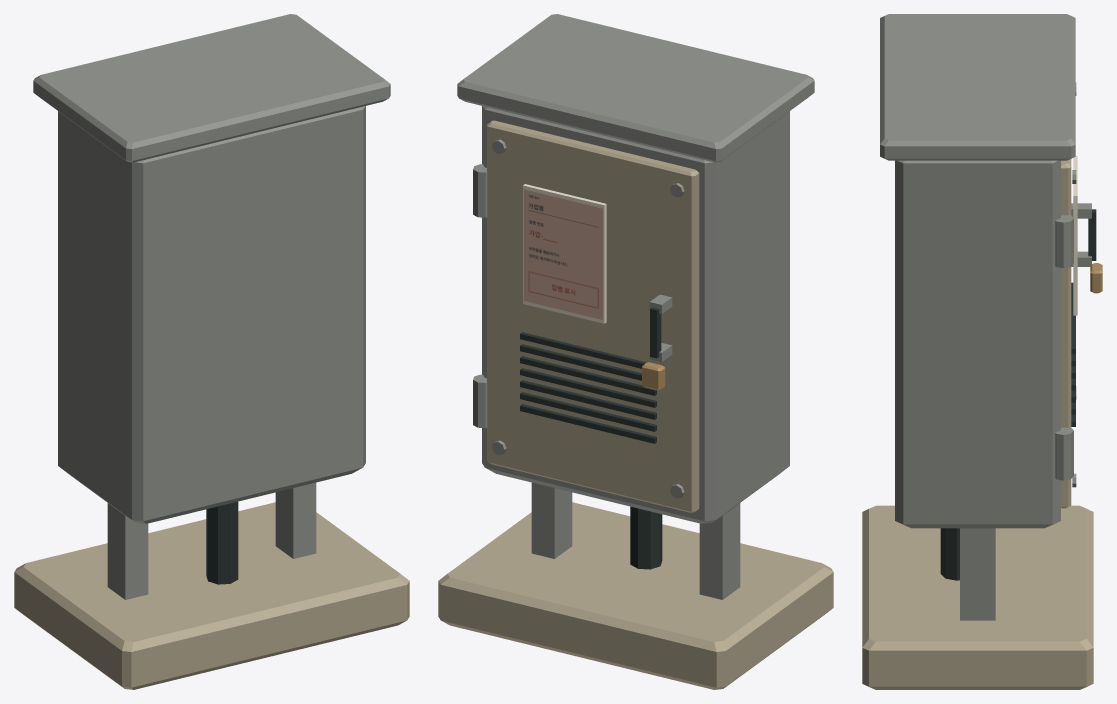
The model's file is D08_Seized_Electrical_Cabinet.fbx.
3 views of the same model, side by side, from view 1: azimuth 30°, elevation 25°; view 2: azimuth 150°, elevation 25°; view 3: azimuth 270°, elevation 25° (orthographic).
Parts seen in each view (by area): view 1: Cabinet, Conduit; view 2: Cabinet, Door, Front_Seizure_Sticker, Conduit, Lock; view 3: Cabinet, Door, Lock, Conduit, Front_Seizure_Sticker.
Part boxes in pixels (left/top/right/bottom): Cabinet: left=14, top=14, right=409, bottom=689; Conduit: left=206, top=501, right=238, bottom=584; Cabinet: left=438, top=14, right=833, bottom=689; Door: left=473, top=120, right=699, bottom=512; Front_Seizure_Sticker: left=523, top=184, right=606, bottom=323; Conduit: left=630, top=506, right=662, bottom=569; Lock: left=642, top=294, right=672, bottom=390; Cabinet: left=862, top=14, right=1093, bottom=689; Door: left=1055, top=82, right=1076, bottom=508; Lock: left=1071, top=203, right=1102, bottom=293; Conduit: left=940, top=528, right=959, bottom=580; Front_Seizure_Sticker: left=1073, top=156, right=1077, bottom=315.
Bounding box in the file's own units: 1.13 × 2.03 × 0.811.
6 materials, 1 textured.
